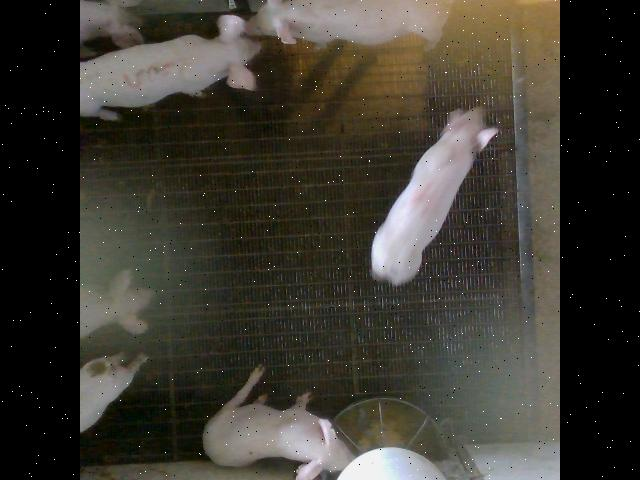pig-3: (80, 15, 260, 119)
pig-4: (371, 106, 489, 284)
